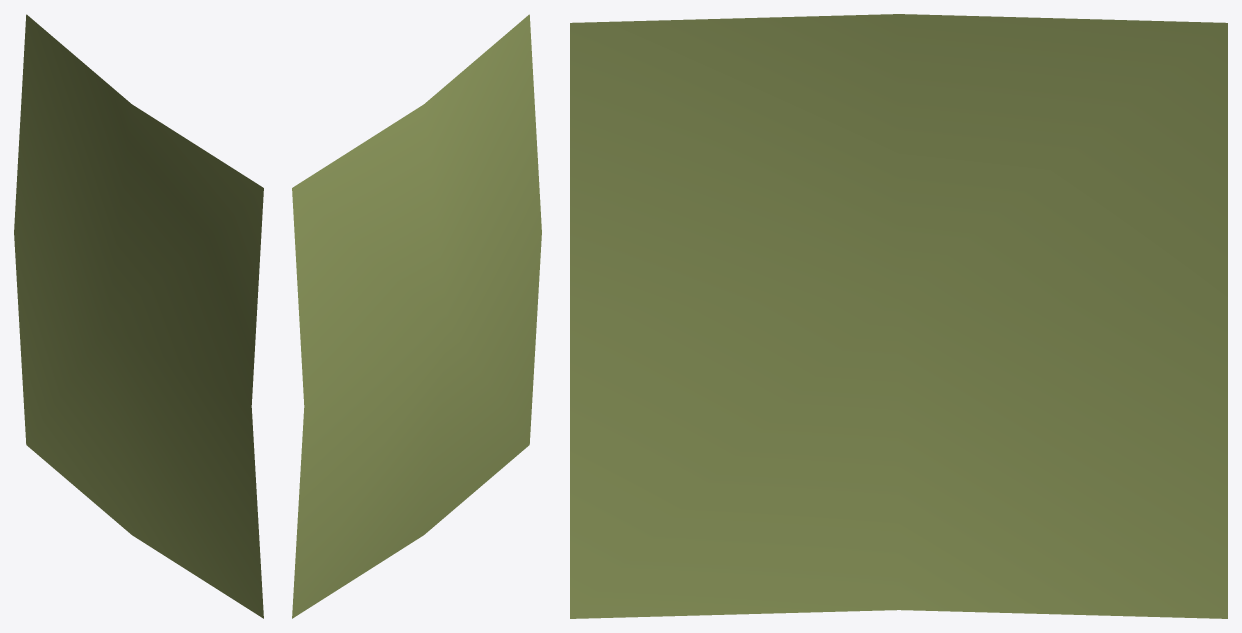
Rendered from cmc_ivy.fbx.
3 views of the same model, side by side, from view 1: azimuth 30°, elevation 25°; view 2: azimuth 150°, elevation 25°; view 3: azimuth 270°, elevation 25° (orthographic). The views are drawn at different scales.
Parts seen in each view (by area): view 1: ivy_patch; view 2: ivy_patch; view 3: ivy_patch.
Boxes of the visible parts, left/top/right/bottom form: ivy_patch: left=14, top=14, right=263, bottom=618; ivy_patch: left=292, top=14, right=541, bottom=618; ivy_patch: left=570, top=14, right=1227, bottom=618.
Size of the model in its own units: 0.0532 by 0.5897 by 0.5897.
